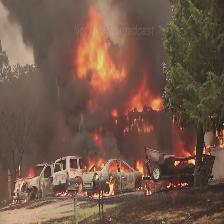fire: (73, 4, 202, 199), (11, 146, 195, 207)
smoke: (0, 0, 93, 102), (58, 66, 128, 167)
